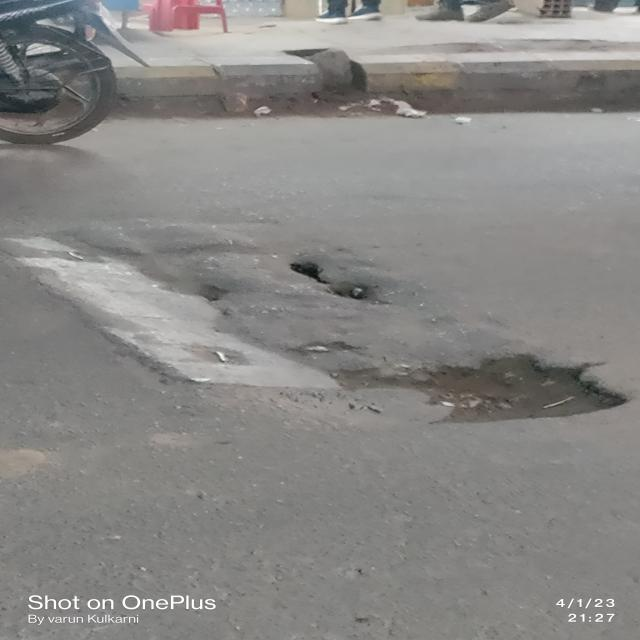potholes: (2, 222, 640, 446)
